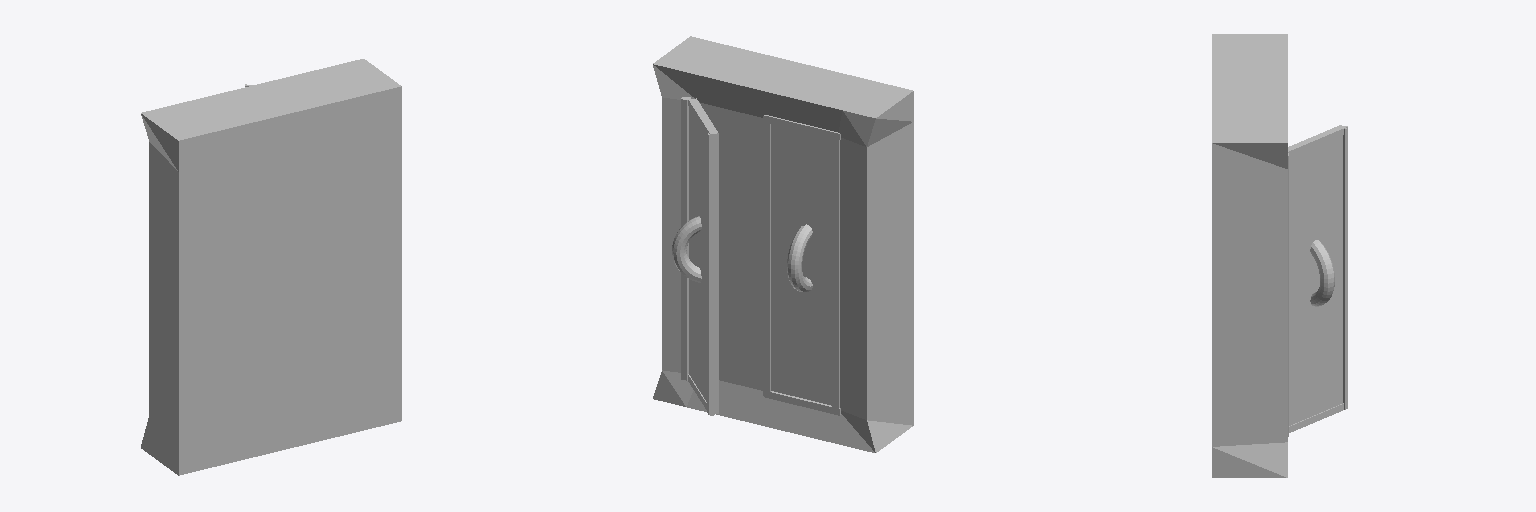
File: open_closed.obj
The picture shows the model from 3 angles: view 1: azimuth 30°, elevation 25°; view 2: azimuth 150°, elevation 25°; view 3: azimuth 270°, elevation 25°; orthographic projection.
Parts seen in each view (by area): view 1: Cube; view 2: Cube, Cube.004, Cube.007, Cube.001, Cube.002, Cube.006, Cube.003, Torus.001, Torus; view 3: Cube, Cube.004, Cube.007, Torus.001, Cube.005.
Part boxes in pixels (bbox=[...]): Cube: bbox=[141, 59, 401, 475]; Cube: bbox=[653, 36, 913, 452]; Cube.004: bbox=[689, 98, 718, 414]; Cube.007: bbox=[707, 133, 715, 414]; Cube.001: bbox=[763, 116, 770, 397]; Cube.002: bbox=[832, 133, 839, 414]; Cube.006: bbox=[681, 97, 690, 380]; Cube.003: bbox=[764, 115, 840, 415]; Torus.001: bbox=[672, 216, 701, 282]; Torus: bbox=[787, 224, 812, 291]; Cube: bbox=[1212, 34, 1287, 477]; Cube.004: bbox=[1288, 125, 1342, 425]; Cube.007: bbox=[1343, 128, 1347, 409]; Torus.001: bbox=[1310, 240, 1334, 306]; Cube.005: bbox=[1288, 126, 1347, 432].
Bounding box in the file's own units: 4.28 × 6.13 × 2.27.